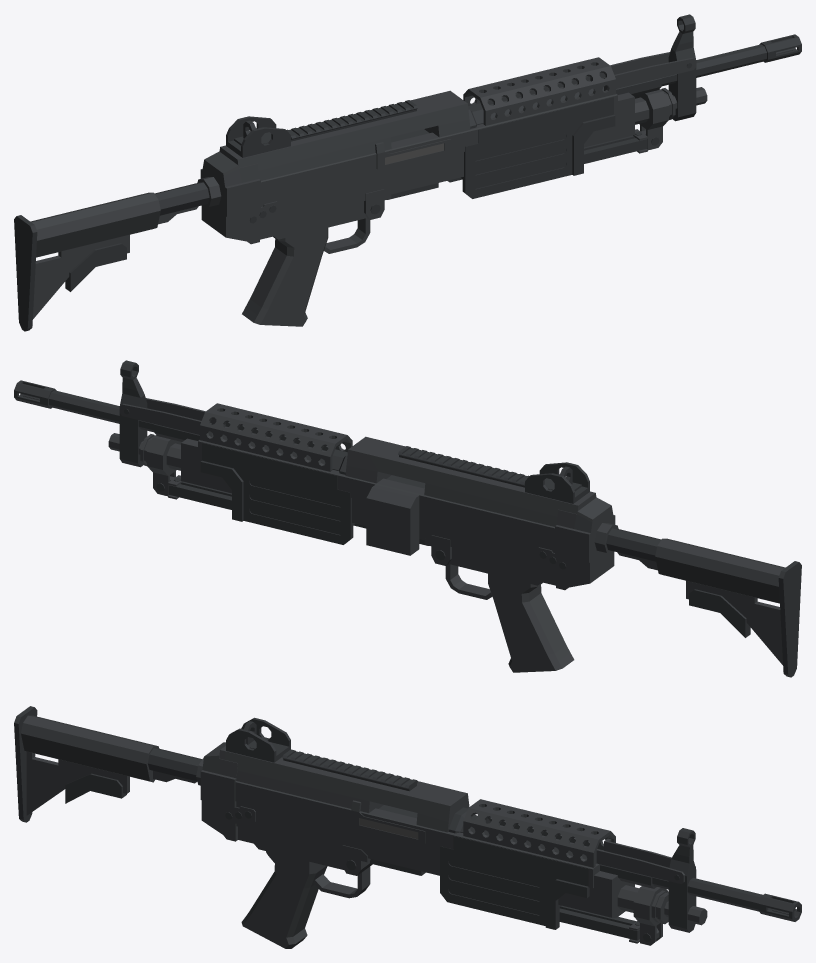
File: LMG2_06.fbx
The picture shows the model from 3 angles, top to bottom: view 1: azimuth 30°, elevation 25°; view 2: azimuth 150°, elevation 25°; view 3: azimuth 330°, elevation 25°; orthographic projection.
Parts seen in each view (by area): view 1: LMG2_06; view 2: LMG2_06; view 3: LMG2_06.
Part boxes in pixels (<box>): LMG2_06: <box>14,14,801,331</box>; LMG2_06: <box>14,360,801,677</box>; LMG2_06: <box>14,706,801,948</box>.
Bounding box in the file's own units: 1.13 × 0.2931 × 0.0903.
